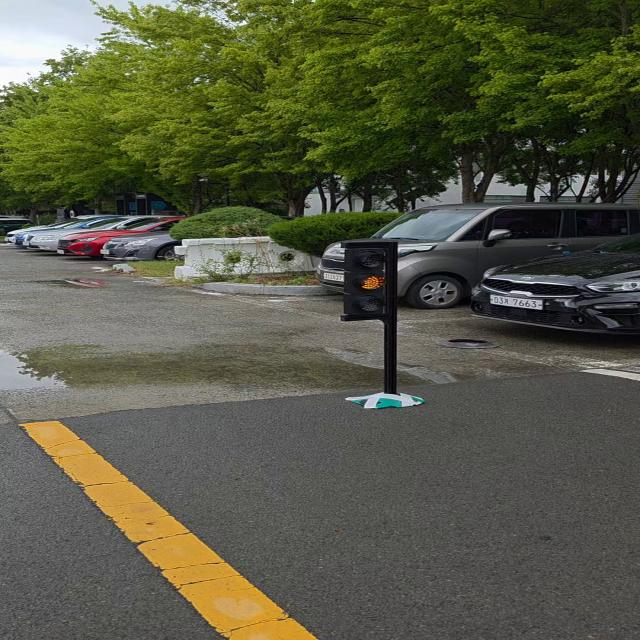yellow: (342, 240, 394, 322)
